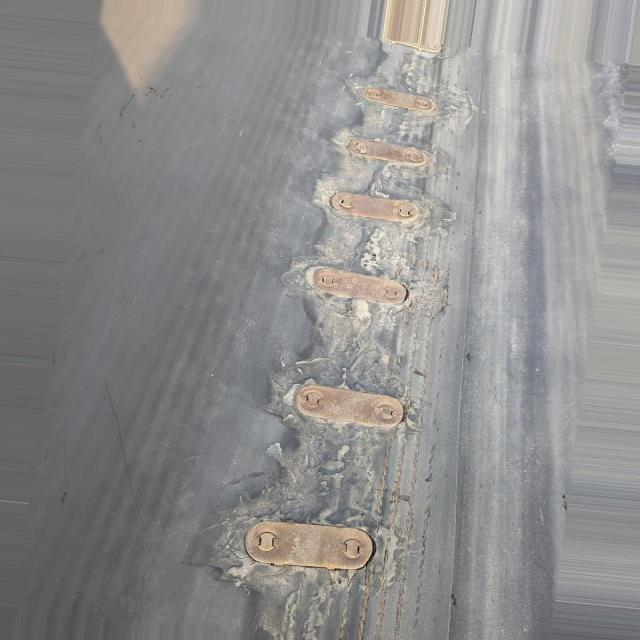patch work: (207, 40, 457, 640)
